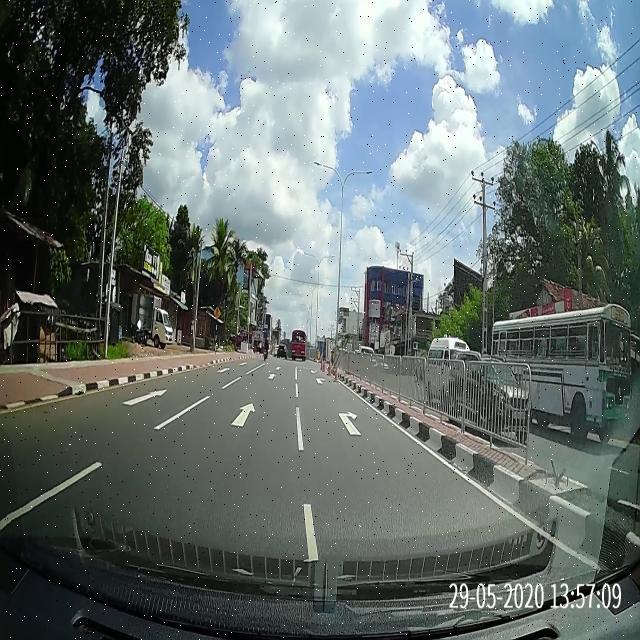forward: (163, 395, 303, 438)
